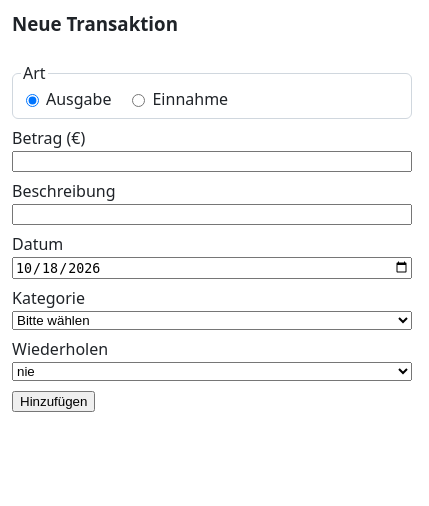
Test: TransactionForm › rejects an end date before the first occurrence
Type "240" into the field labelled "Betrag (€)" at (212, 162), box [12,151,412,172]
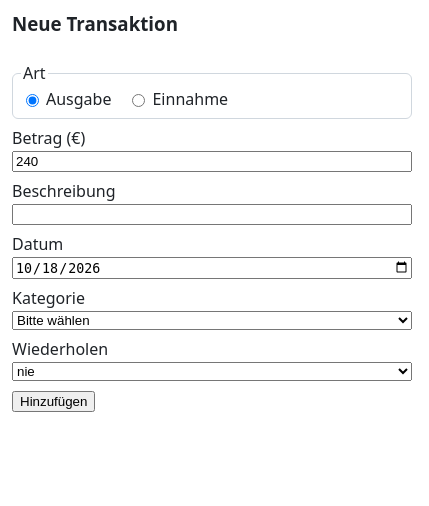
Type "Haftpflicht" into the field labelled "Beschreibung" at (212, 215), box [12,204,412,225]
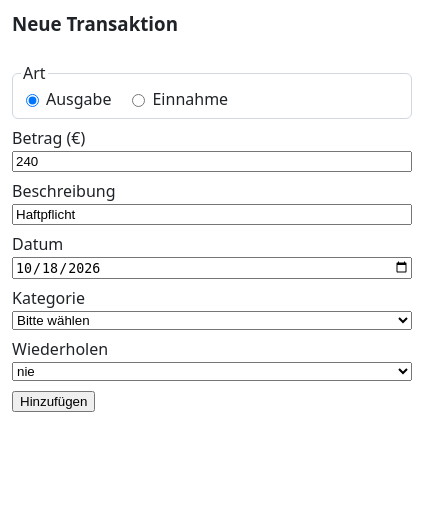
Select "Wohnen" in the dropdown labelled "Kategorie" at (212, 320), box [12,311,412,330]
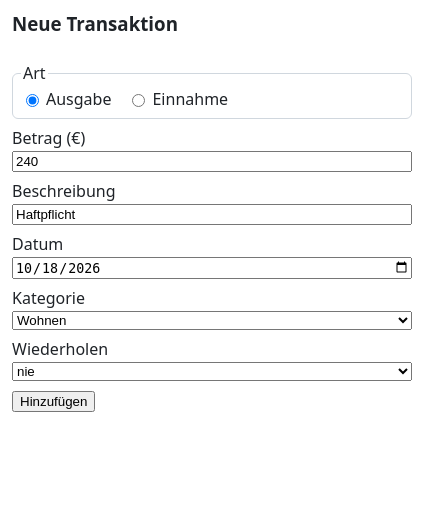
Select "monatlich" in the dropdown labelled "Wiederholen" at (212, 371), box [12,362,412,381]
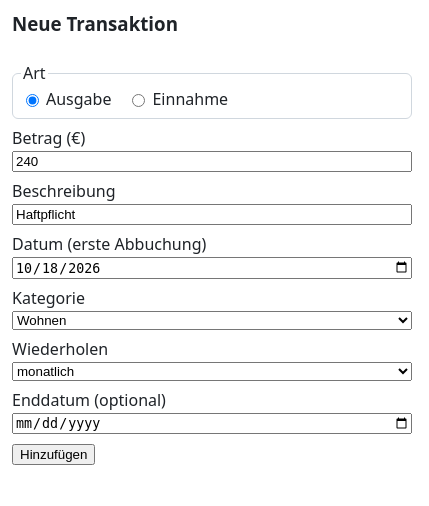
Type "2026-09-30" into the date field labelled "Enddatum (optional)" at (212, 423), box [12,413,412,434]
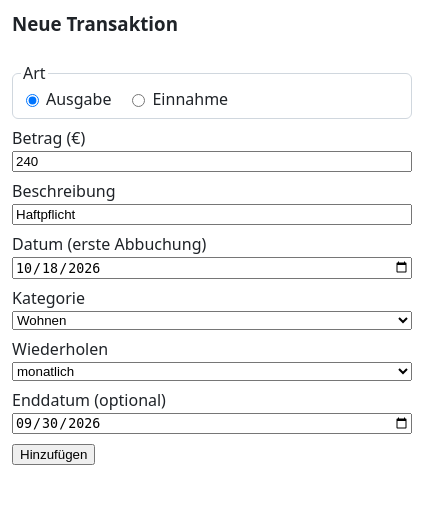
Click the button "Hinzufügen" at (54, 455), box [12,444,95,465]
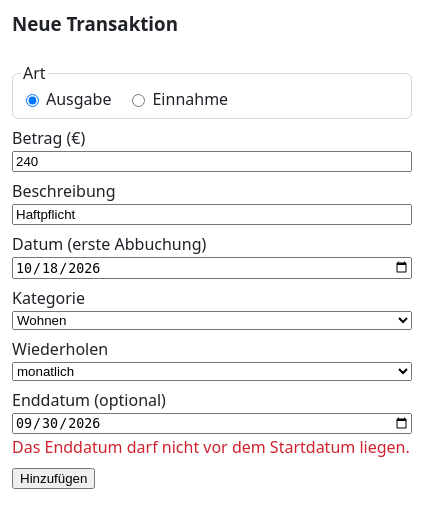
Now the text "Das Enddatum darf nicht vor dem Startdatum liegen." is shown, box [12,436,412,458]
